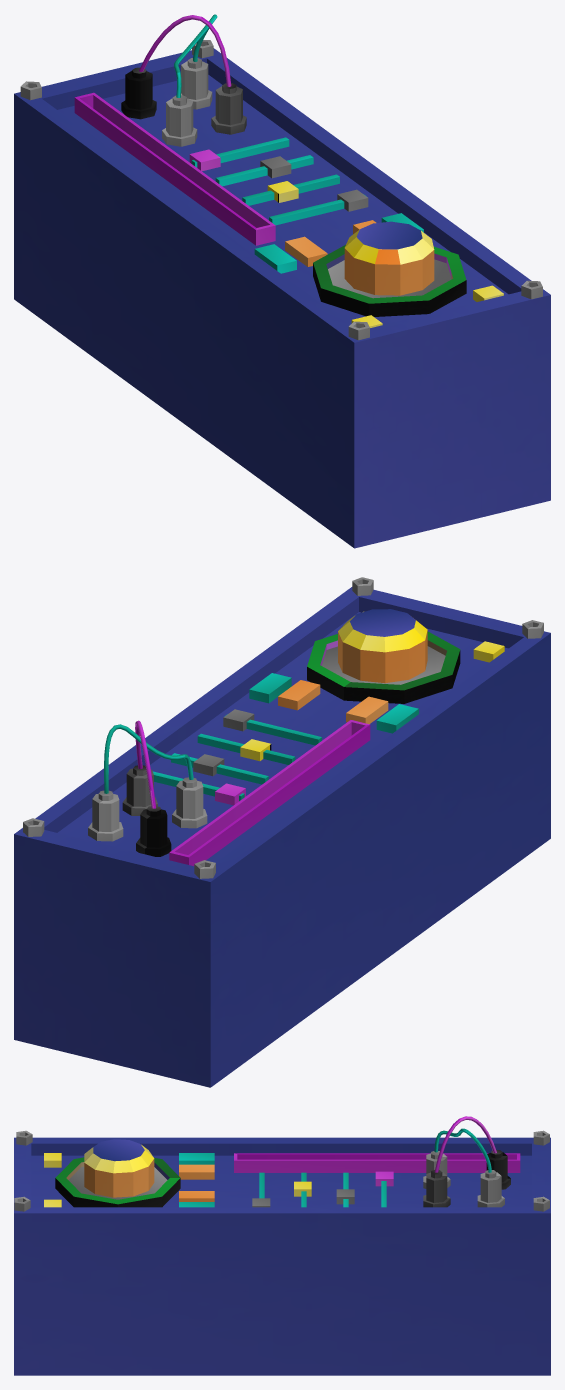
File: itemRadio.fbx
3 renders of one model, top to bottom at view 1: azimuth 30°, elevation 25°; view 2: azimuth 150°, elevation 25°; view 3: azimuth 270°, elevation 25°, orthographic. The views are drawn at different scales.
Visible parts, largest first — view 1: Case, DiscStuff, controller, Cylinder.004, Cylinder.006, Cylinder.008, Cylinder.009, Cylinder.007, Cable2, control4, control1, control3 (+3 smaller); view 2: Case, DiscStuff, controller, Cylinder.004, Cylinder.007, Cylinder.006, Cylinder.009, Cylinder.008, Button2, Button1, Cable1, control1 (+5 smaller); view 3: Case, DiscStuff, controller, Cylinder.004, Cylinder.008, Cylinder.007, Button4, Cylinder.009, Cable2, Cylinder.006, Button3, Button2 (+1 smaller).
Boxes of the visible parts, box(x1,y1,x2,y2) form: Case: box(14, 48, 550, 548); DiscStuff: box(74, 92, 275, 245); controller: box(344, 221, 434, 295); Cylinder.004: box(313, 244, 466, 316); Cylinder.006: box(162, 95, 197, 146); Cylinder.008: box(211, 83, 246, 134); Cylinder.009: box(121, 67, 156, 119); Cylinder.007: box(181, 58, 212, 109); Cable2: box(139, 15, 231, 86); control4: box(191, 137, 289, 167); control1: box(269, 194, 366, 225); control3: box(215, 155, 313, 186); Case: box(14, 587, 550, 1087); DiscStuff: box(169, 720, 370, 866); controller: box(338, 609, 427, 683); Cylinder.004: box(307, 631, 460, 703); Cylinder.007: box(88, 790, 123, 841); Cylinder.006: box(172, 777, 207, 828); Cylinder.009: box(136, 806, 171, 856); Cylinder.008: box(122, 765, 157, 815); Button2: box(278, 680, 320, 710); Button1: box(249, 673, 291, 703); Cable1: box(104, 724, 193, 793); control1: box(224, 714, 321, 745); Case: box(14, 1137, 550, 1375); DiscStuff: box(234, 1153, 520, 1172); controller: box(84, 1139, 154, 1197); Cylinder.004: box(55, 1157, 180, 1207); Cylinder.008: box(423, 1170, 450, 1207); Cylinder.007: box(477, 1170, 504, 1207); Button4: box(179, 1164, 214, 1179); Cylinder.009: box(486, 1150, 510, 1189); Cable2: box(434, 1116, 496, 1172); Cylinder.006: box(423, 1151, 450, 1188); Button3: box(179, 1153, 214, 1164); Button2: box(179, 1191, 214, 1201).
Size of the model in its own units: 200 by 285 by 600.
